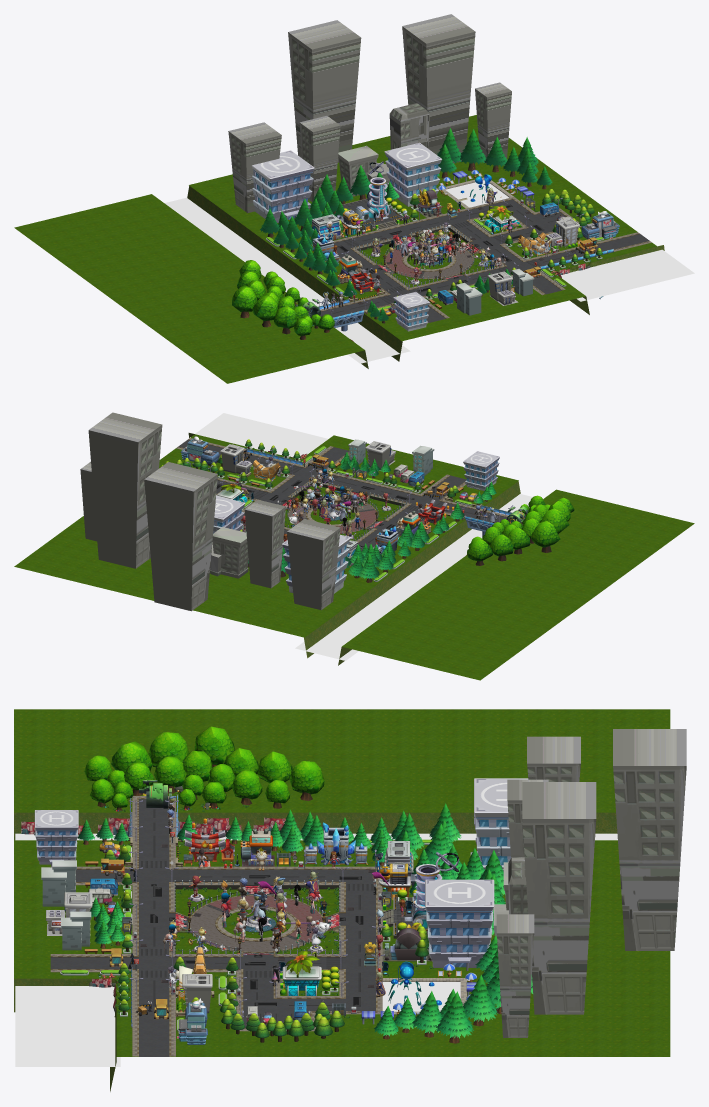
File: 04_04_Dan_Cu_Va_NPC_2.glb
3 views of the same model, one above another, from view 1: azimuth 30°, elevation 25°; view 2: azimuth 150°, elevation 25°; view 3: azimuth 270°, elevation 25° (orthographic). The views are drawn at different scales.
Visible parts, largest first — view 1: 04_04_Dan_Cu_Va_NPC_2; view 2: 04_04_Dan_Cu_Va_NPC_2; view 3: 04_04_Dan_Cu_Va_NPC_2.
Part boxes in pixels (left/top/right/bottom): 04_04_Dan_Cu_Va_NPC_2: left=14, top=14, right=694, bottom=383; 04_04_Dan_Cu_Va_NPC_2: left=14, top=412, right=694, bottom=680; 04_04_Dan_Cu_Va_NPC_2: left=14, top=709, right=686, bottom=1091.
Bounding box in the file's own units: 204 × 62.3 × 166.
98 materials, 95 textured.
